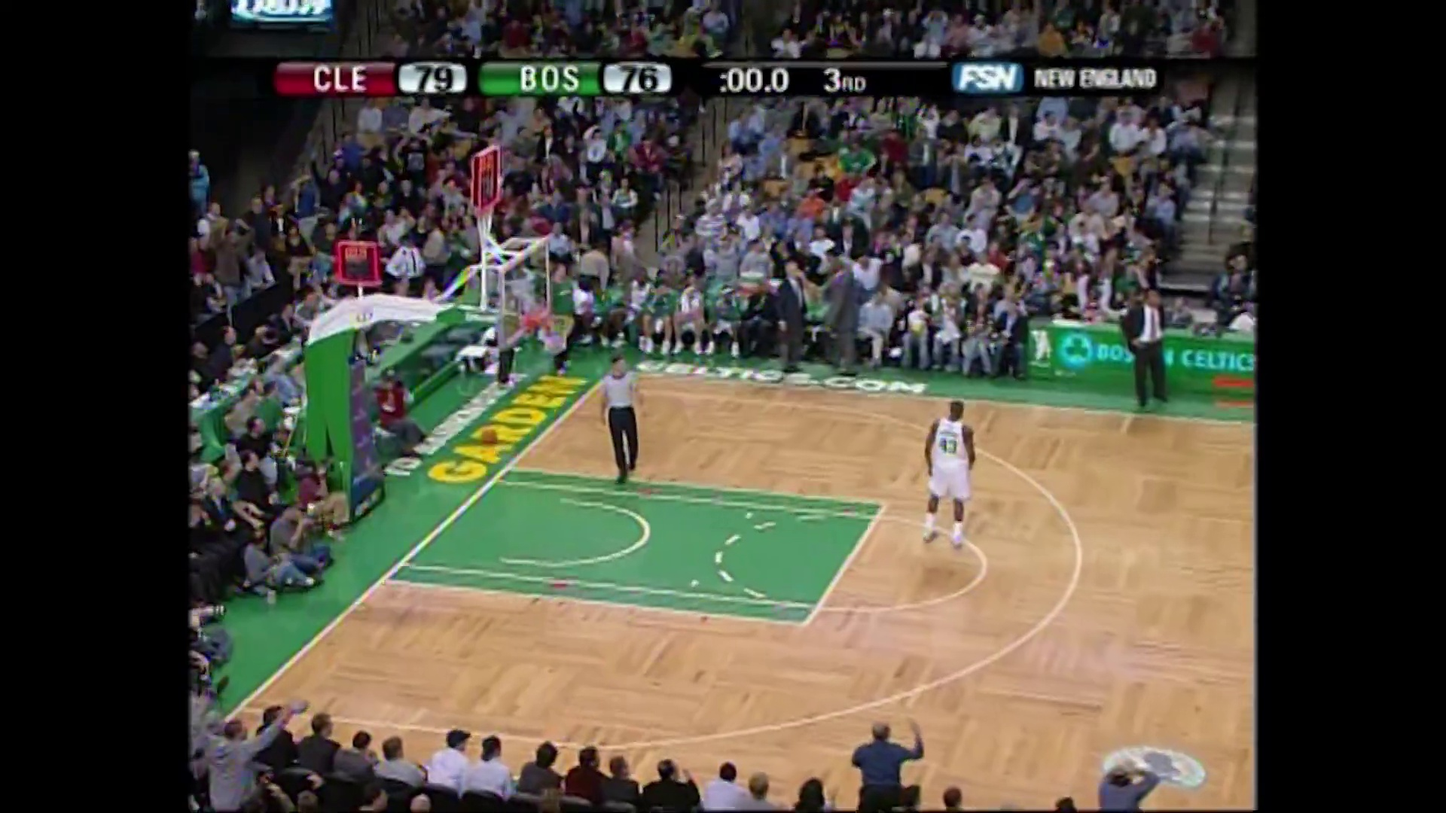basket_hoop: (466, 237, 619, 376)
